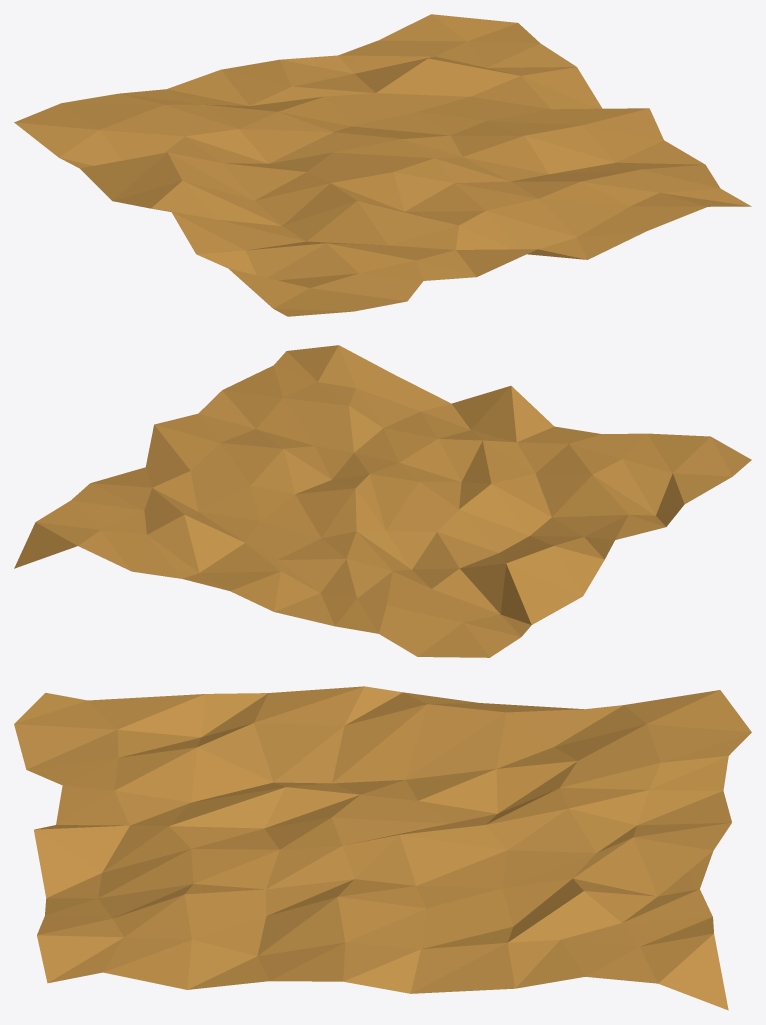
The model's file is terrain.obj.
3 renders of one model, top to bottom at view 1: azimuth 30°, elevation 25°; view 2: azimuth 150°, elevation 25°; view 3: azimuth 270°, elevation 25°, orthographic. The views are drawn at different scales.
Visible parts, largest first — view 1: Grid; view 2: Grid; view 3: Grid.
Boxes of the visible parts, <box> form: Grid: <box>14,14,751,316</box>; Grid: <box>14,345,751,657</box>; Grid: <box>14,686,751,1010</box>.
Size of the model in its own units: 14.48 by 1.13 by 15.13.
Materials: 1 (1 with a texture image).
